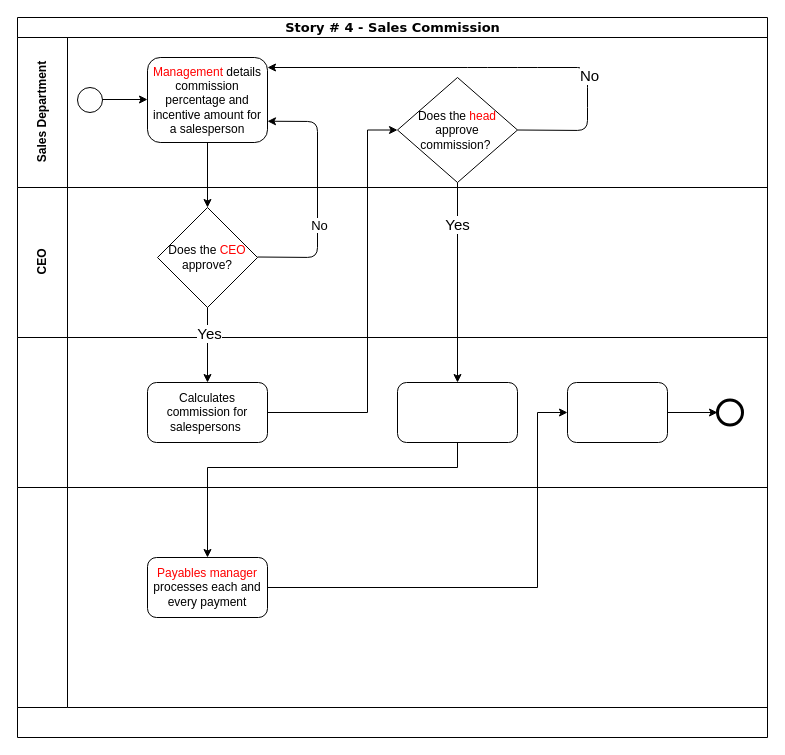
This 785x755 diagram has some shape labels left out. The shapes that lost their labels are listed below. From the top down, each one's box as (x1, y1, x2, y2) in pixels, then its label:
(16, 336, 768, 488): System
(396, 382, 518, 442): Payment starts appearing at payments section
(566, 382, 668, 442): Confirmation mail sent to salesperson
(16, 486, 768, 708): Accounting and Finance Department
